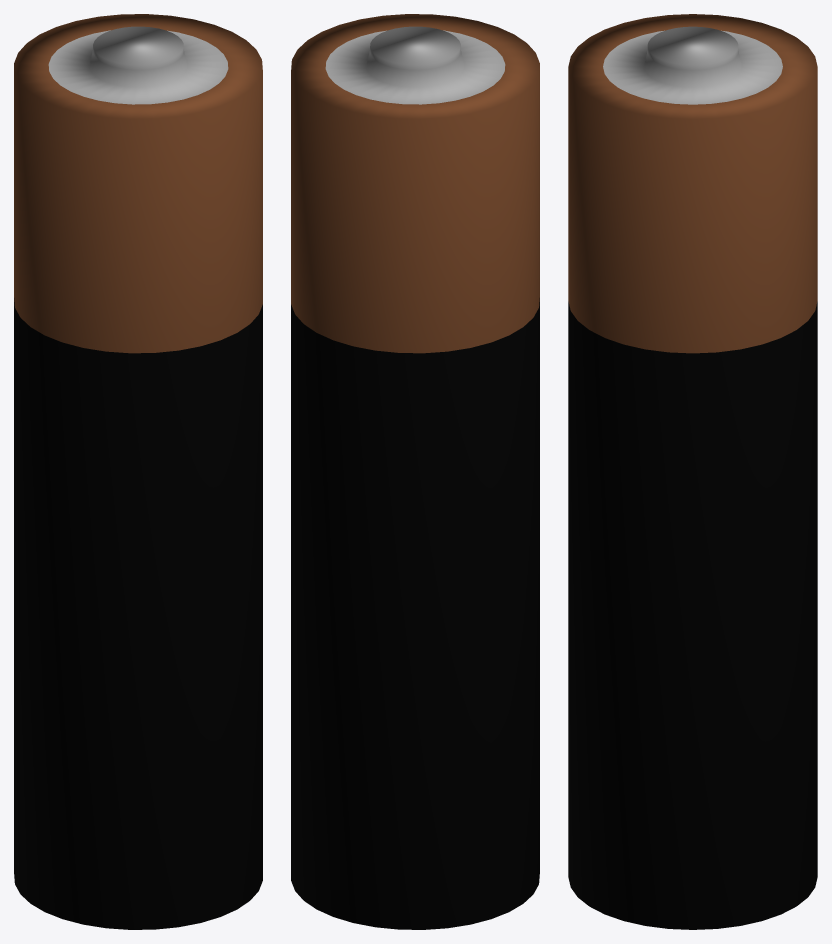
The model's file is pilaAA.glb.
3 renders of one model, left to right at view 1: azimuth 30°, elevation 25°; view 2: azimuth 150°, elevation 25°; view 3: azimuth 270°, elevation 25°, orthographic.
Parts seen in each view (by area): view 1: Cilindro; view 2: Cilindro; view 3: Cilindro.
Boxes of the visible parts, x1,y1,x2,y2 form: Cilindro: [14, 14, 262, 929]; Cilindro: [291, 14, 539, 929]; Cilindro: [568, 14, 817, 929].
Size of the model in its own units: 2.14 by 7.87 by 2.14.
